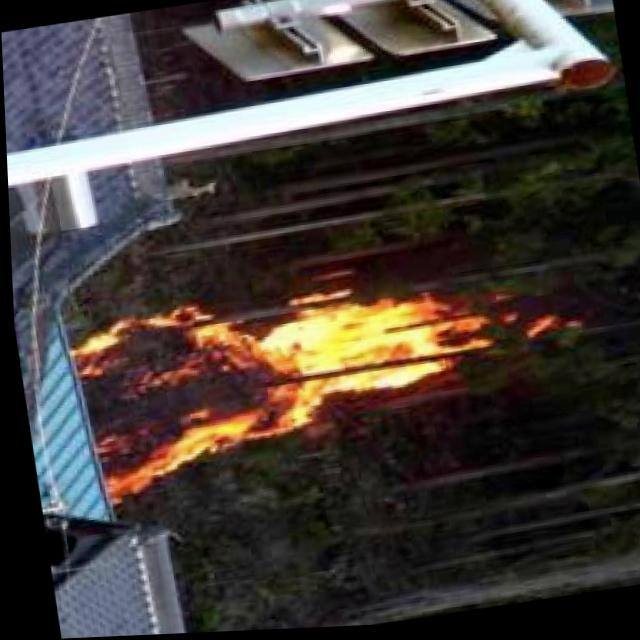Fire: (63, 266, 501, 485)
